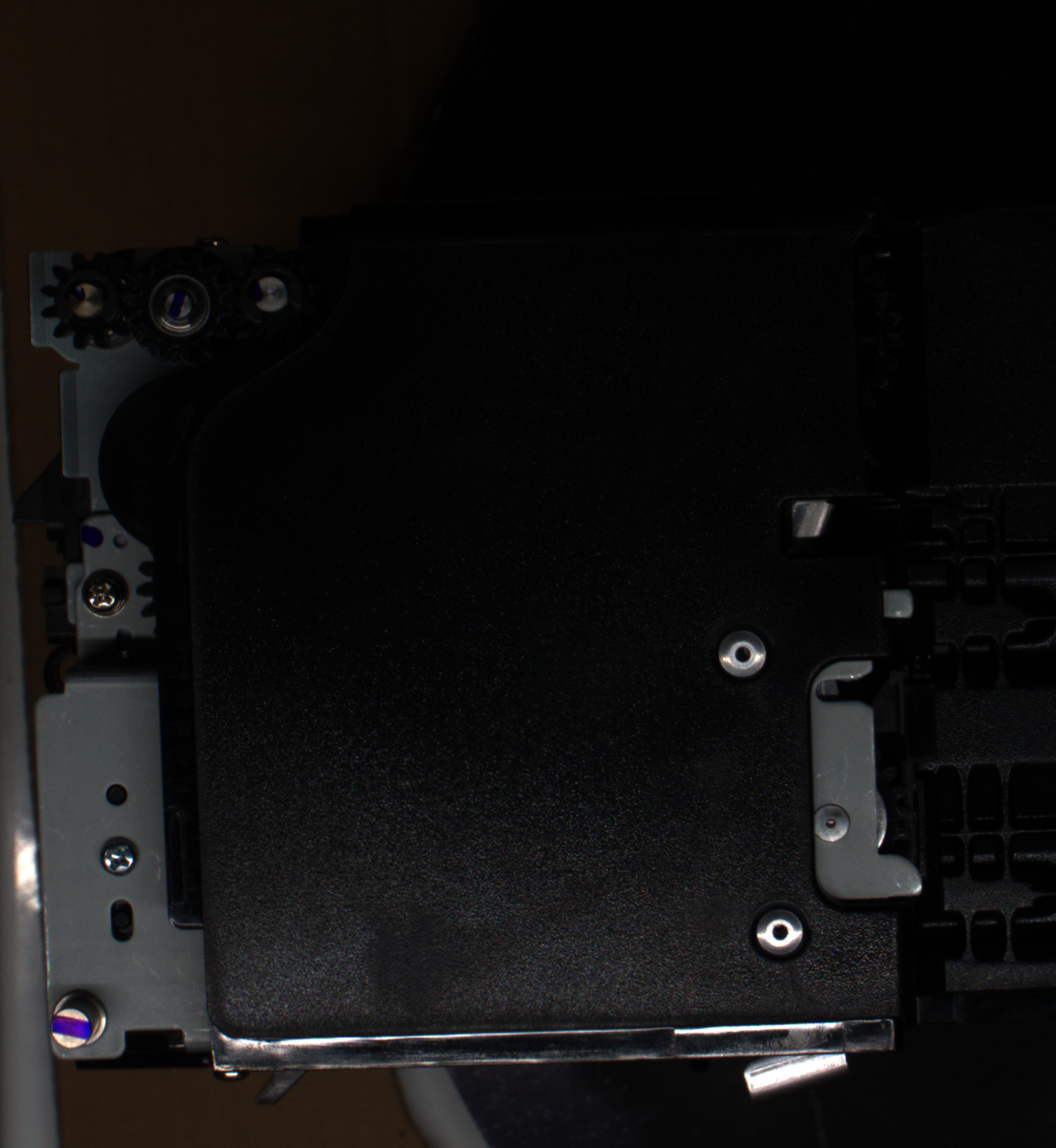centre_pin_presence: (737, 1038, 854, 1103)
centre_plate_presence: (802, 649, 931, 918)
centre_screw_presence: (744, 895, 814, 968), (710, 616, 780, 687)
gear1_presence: (38, 248, 139, 354)
gear2_presence: (121, 245, 234, 366)
gear3_presence: (218, 246, 319, 345)
side_screw_presence: (74, 566, 131, 619), (95, 834, 141, 878)
slanting_pin_presence: (45, 984, 115, 1055)
